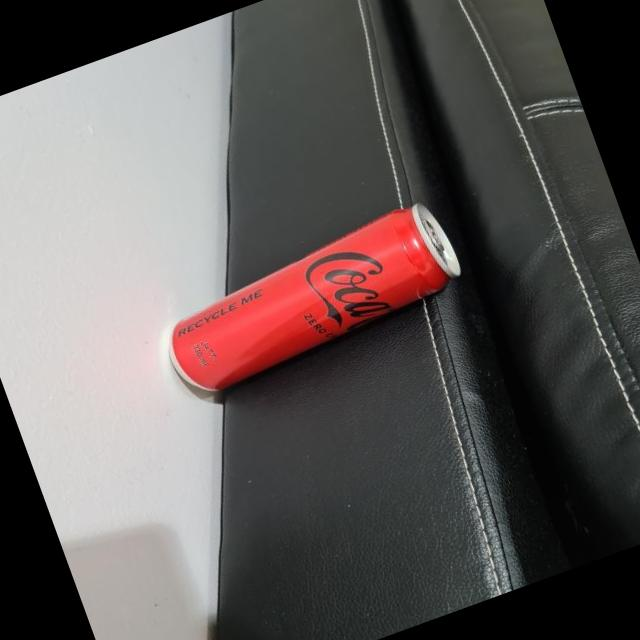Kaleng: (146, 192, 474, 404)
